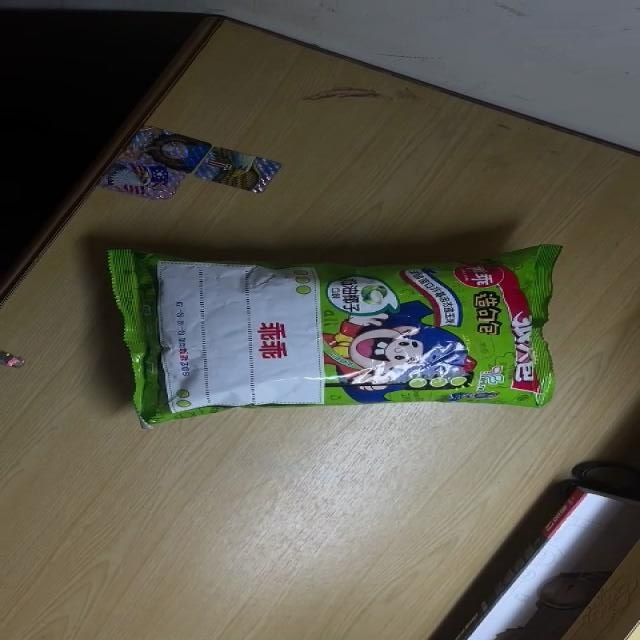Good-Luck: (104, 242, 566, 429)
